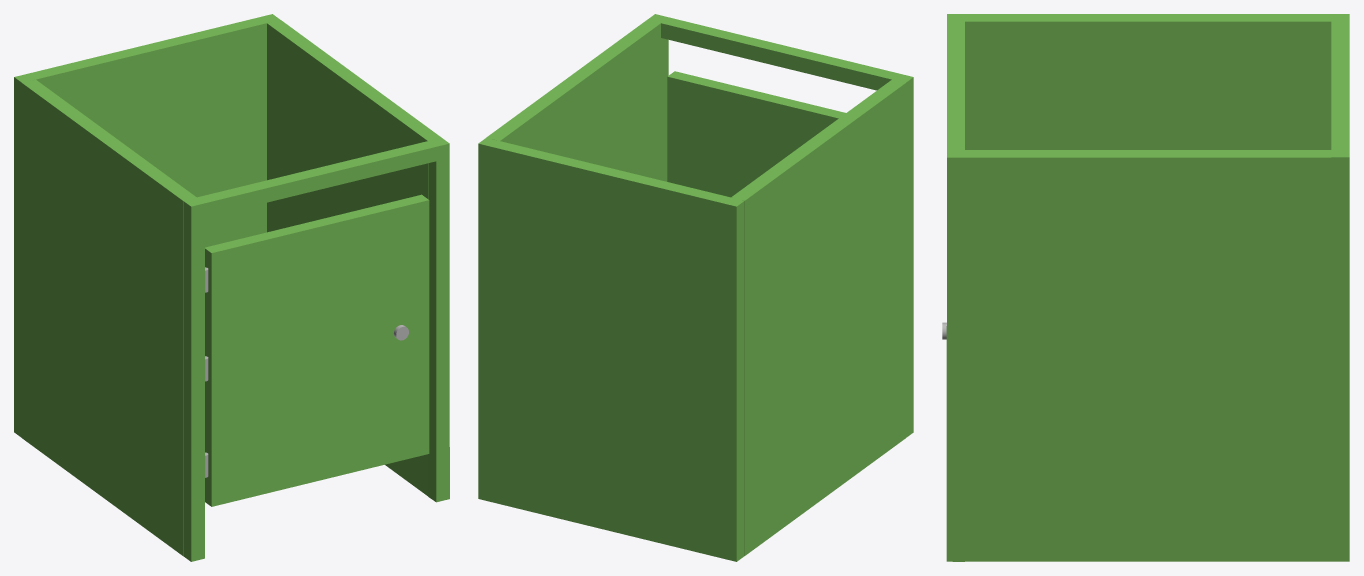
File: toalett_6.fbx
3 views of the same model, side by side, from view 1: azimuth 30°, elevation 25°; view 2: azimuth 150°, elevation 25°; view 3: azimuth 270°, elevation 25° (orthographic). The views are drawn at different scales.
Visible parts, largest first — view 1: pCube5, pCube9, pCube7, pCube6, pCube8; view 2: pCube7, pCube5, pCube6, pCube9, pCube8; view 3: pCube6, pCube5, pCube7, pCube8.
Part boxes in pixels (x1,y1,x2,y2): pCube5: (22, 79, 196, 555); pCube9: (205, 194, 429, 506); pCube7: (14, 14, 280, 437); pCube6: (267, 20, 441, 495); pCube8: (183, 138, 449, 561); pCube7: (478, 137, 744, 561); pCube5: (731, 79, 905, 555); pCube6: (486, 19, 660, 180); pCube9: (667, 71, 845, 197); pCube8: (647, 14, 913, 437); pCube6: (965, 150, 1331, 561); pCube5: (965, 14, 1331, 149); pCube7: (1331, 14, 1349, 561); pCube8: (946, 14, 964, 561).
Bounding box in the file's own units: 23.76 × 31.21 × 28.47.
